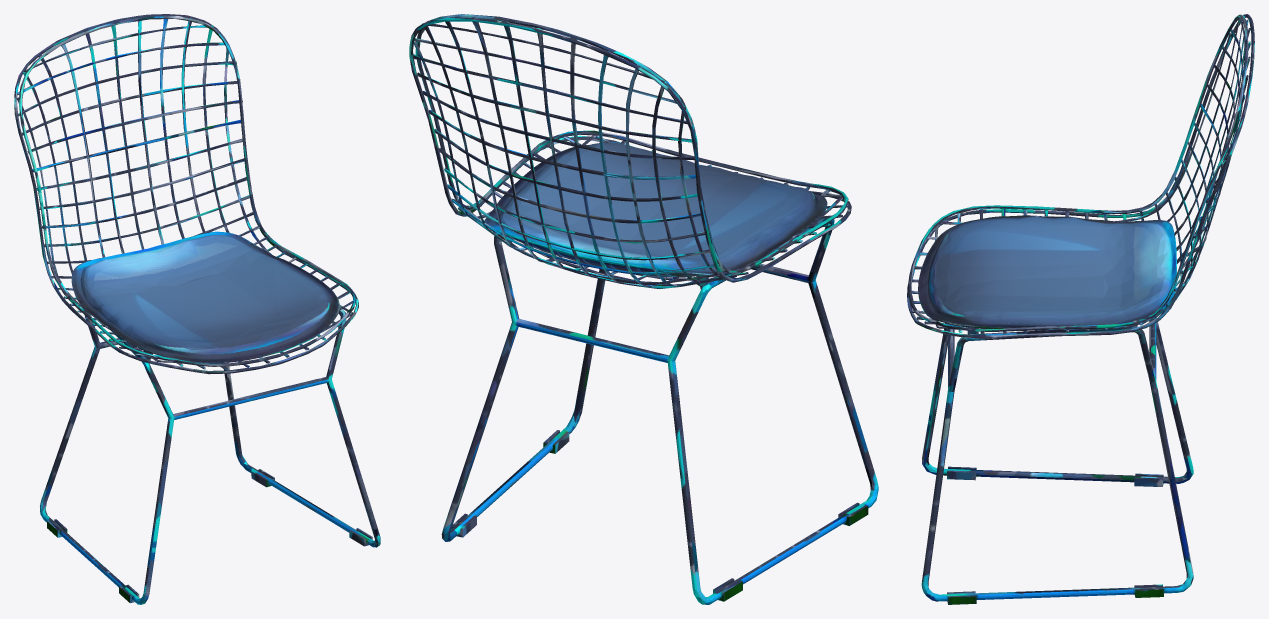
File: edited_mesh.glb
The picture shows the model from 3 angles, left to right: view 1: azimuth 30°, elevation 25°; view 2: azimuth 150°, elevation 25°; view 3: azimuth 270°, elevation 25°; orthographic projection. The views are drawn at different scales.
Parts seen in each view (by area): view 1: solid_001_wire; view 2: solid_001_wire; view 3: solid_001_wire.
Part boxes in pixels (x1,y1,x2,y2): solid_001_wire: (14, 14, 380, 604); solid_001_wire: (409, 14, 878, 604); solid_001_wire: (907, 14, 1254, 604).
Bounding box in the file's own units: 0.8537 × 1.52 × 0.9609.
1 material, 1 textured.
